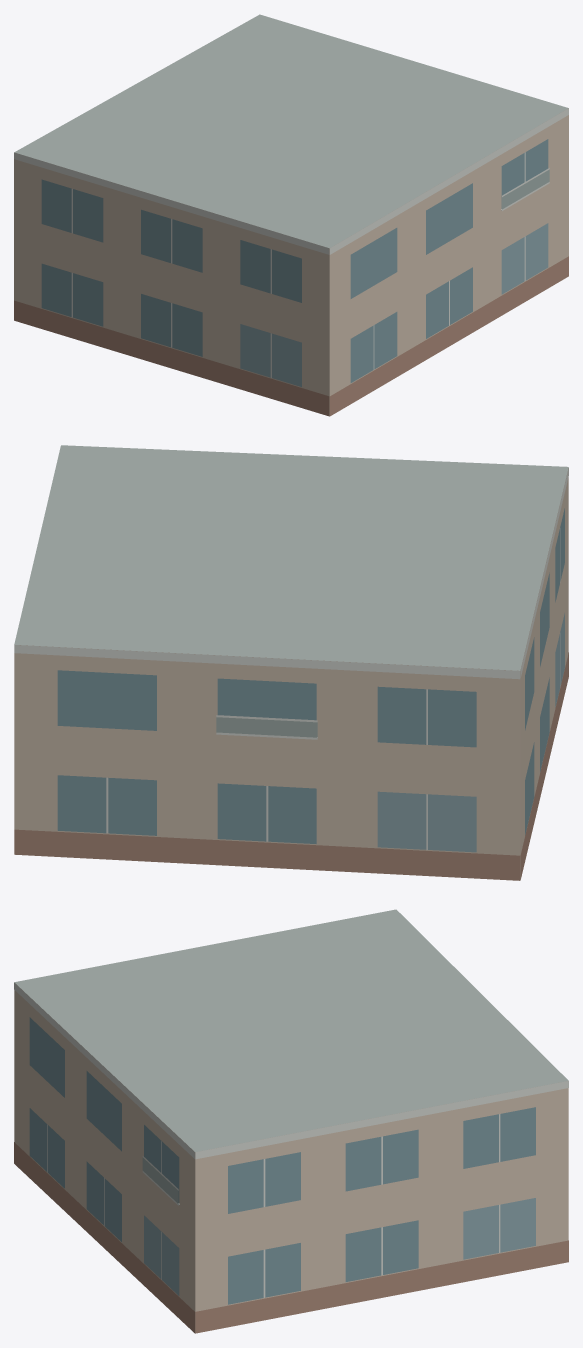
Rendered from survey-upis-32668626.glb.
3 renders of one model, top to bottom at view 1: azimuth 30°, elevation 25°; view 2: azimuth 150°, elevation 25°; view 3: azimuth 270°, elevation 25°, orthographic. The views are drawn at different scales.
Parts seen in each view (by area): view 1: survey-upis-32668626.tmp; view 2: survey-upis-32668626.tmp; view 3: survey-upis-32668626.tmp.
Boxes of the visible parts, <box> form: survey-upis-32668626.tmp: <box>14,14,568,416</box>; survey-upis-32668626.tmp: <box>14,445,568,880</box>; survey-upis-32668626.tmp: <box>14,909,568,1333</box>.
Size of the model in its own units: 17.52 by 6.1 by 16.92.
